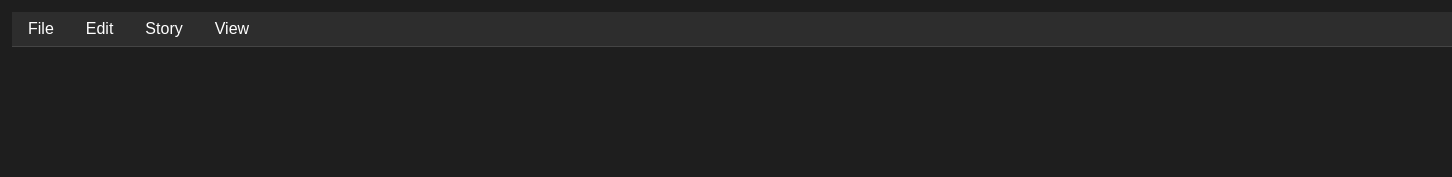
Test case: Feature: Menu Bar Component › Scenario: User interacts with Story menu › Given the Story menu is closed, When clicked, Then it should open and display story options
Click the button "Story" at (164, 29), box [129,12,199,46]
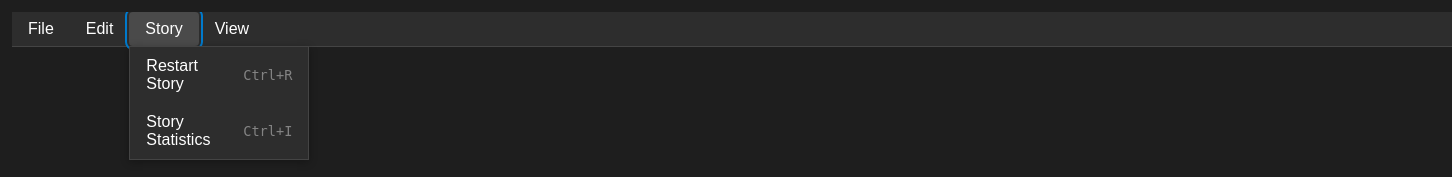
Now the text "Story Statistics" is shown, box [146,113,210,148]
